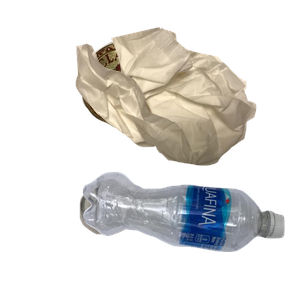glass: (77, 178, 205, 300)
metal: (78, 37, 243, 163)
plastic: (80, 169, 300, 300)
trash: (73, 25, 300, 183)
